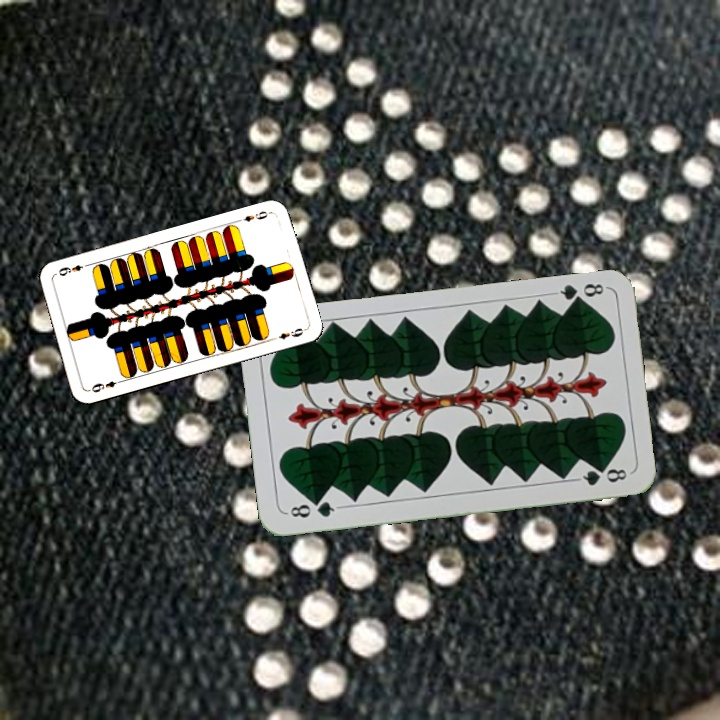E9: (88, 376, 126, 395), (234, 207, 274, 225)
G8: (550, 279, 609, 308), (283, 496, 342, 521)
